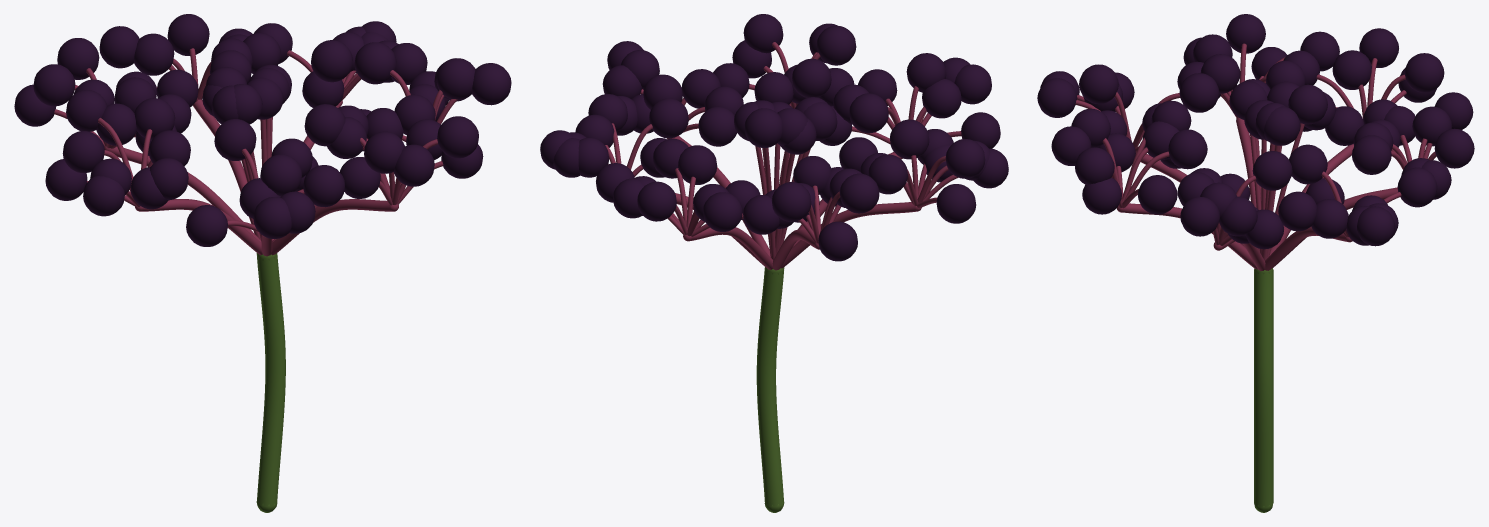
The model's file is elderberry.glb.
3 renders of one model, left to right at view 1: azimuth 30°, elevation 25°; view 2: azimuth 150°, elevation 25°; view 3: azimuth 270°, elevation 25°, orthographic. The views are drawn at different scales.
Parts seen in each view (by area): view 1: Elderberries; view 2: Elderberries; view 3: Elderberries.
Boxes of the visible parts, left/top/right/bottom form: Elderberries: left=14, top=14, right=511, bottom=512; Elderberries: left=540, top=14, right=1008, bottom=512; Elderberries: left=1037, top=14, right=1474, bottom=512.
Size of the model in its own units: 0.1958 by 0.1972 by 0.1862.
